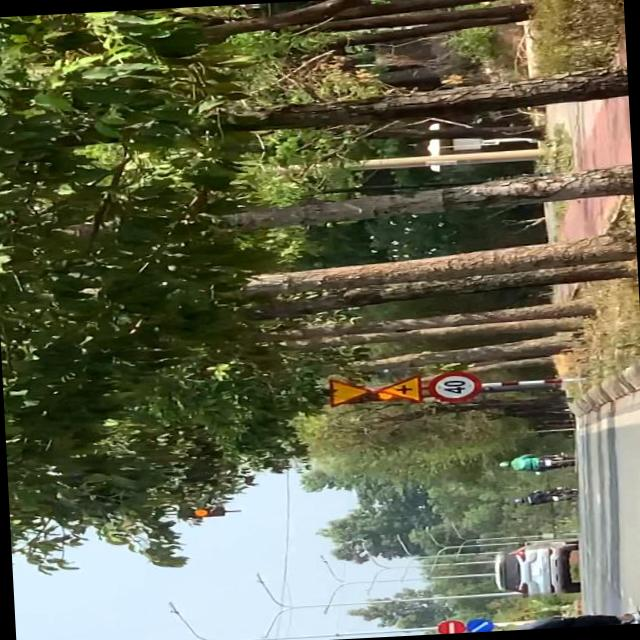P-102: (434, 618, 467, 634)
P-127: (427, 370, 482, 404)
R-302a: (466, 618, 491, 632)
W-205a: (378, 378, 422, 406)
W-208: (327, 377, 370, 407)
